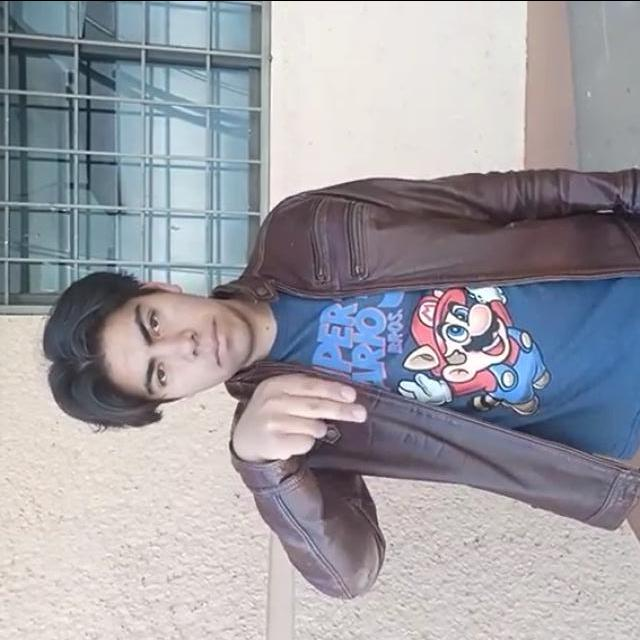N: (206, 342, 372, 497)
